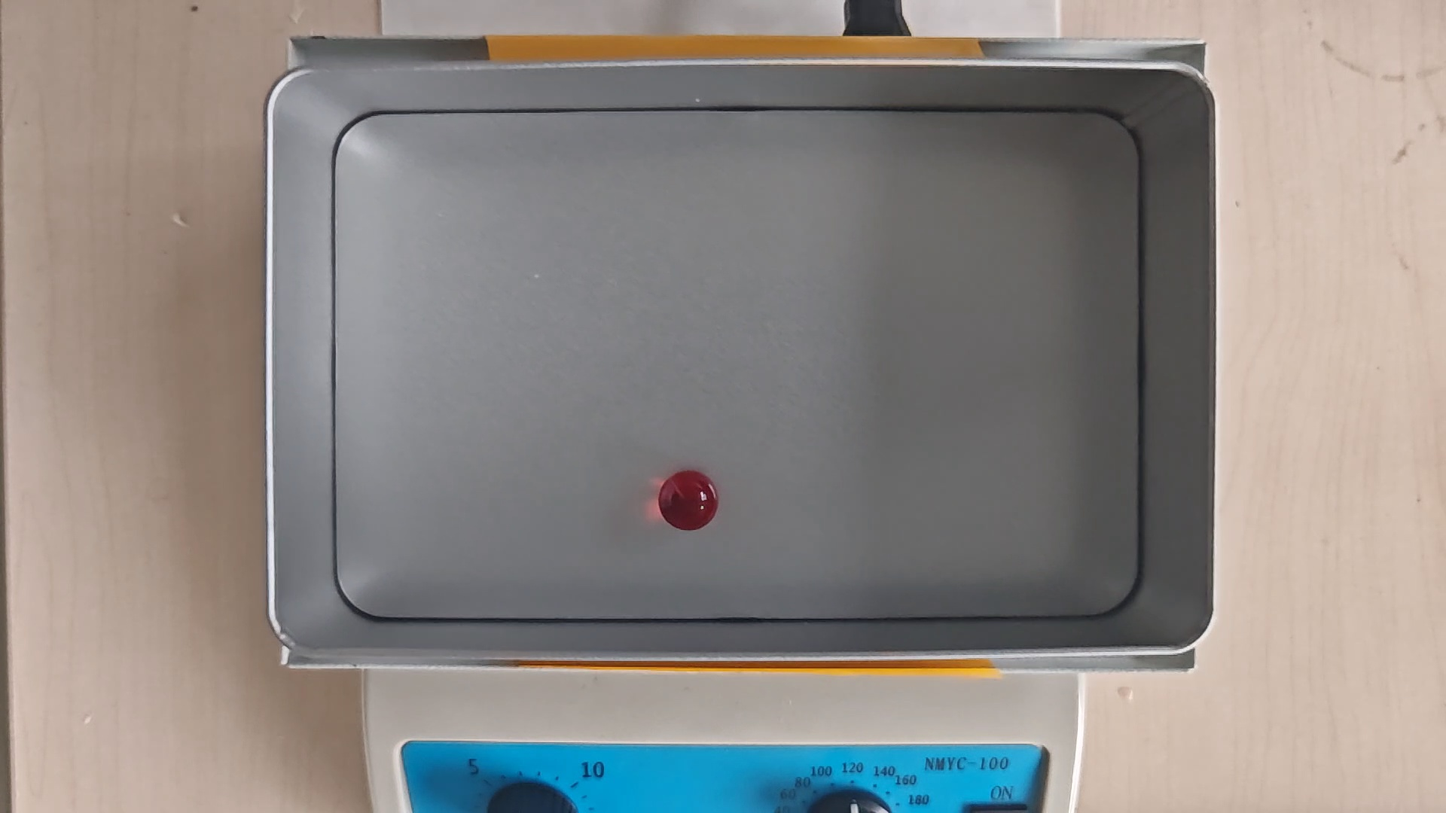ball: (660, 473, 718, 531)
container: (334, 111, 1139, 618)
